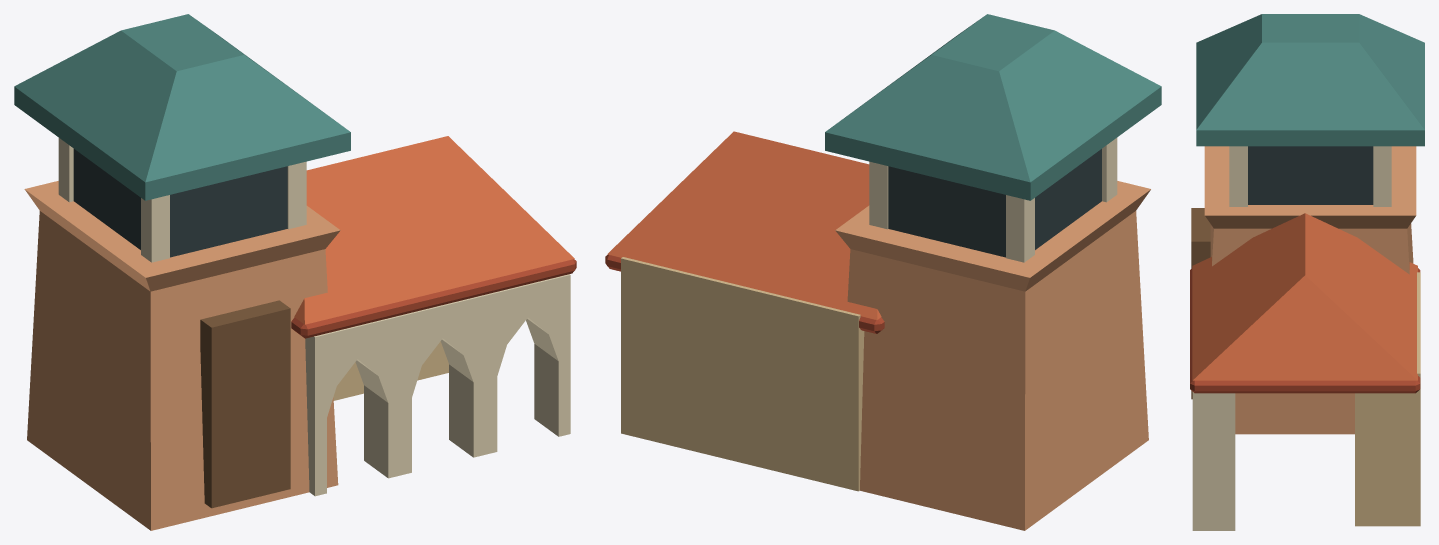
The model's file is ns-loft-barn.glb.
3 renders of one model, left to right at view 1: azimuth 30°, elevation 25°; view 2: azimuth 150°, elevation 25°; view 3: azimuth 270°, elevation 25°, orthographic. The views are drawn at different scales.
Visible parts, largest first — view 1: Work profile; view 2: Work profile; view 3: Work profile.
Part boxes in pixels (box(x1,y1,x2,y2)): Work profile: box(14, 14, 576, 530); Work profile: box(605, 14, 1161, 530); Work profile: box(1190, 14, 1424, 530).
Size of the model in its own units: 0.561 by 0.523 by 0.304.
